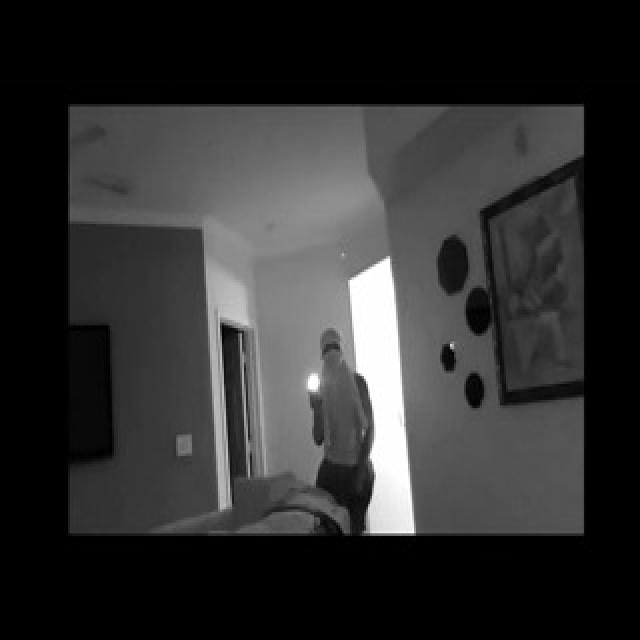thief: (300, 319, 384, 459)
